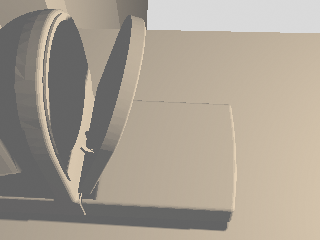lid_1: (79, 15, 145, 194)
